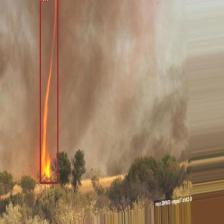fire: (39, 0, 58, 183)
